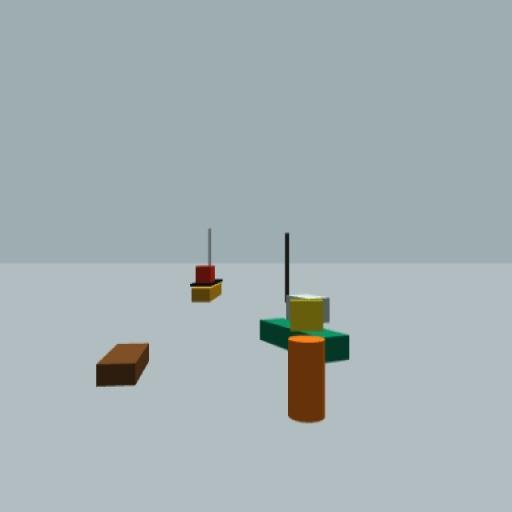buoy: (288, 298, 327, 424)
debris_container: (96, 342, 148, 387)
vessel: (190, 229, 224, 304)
